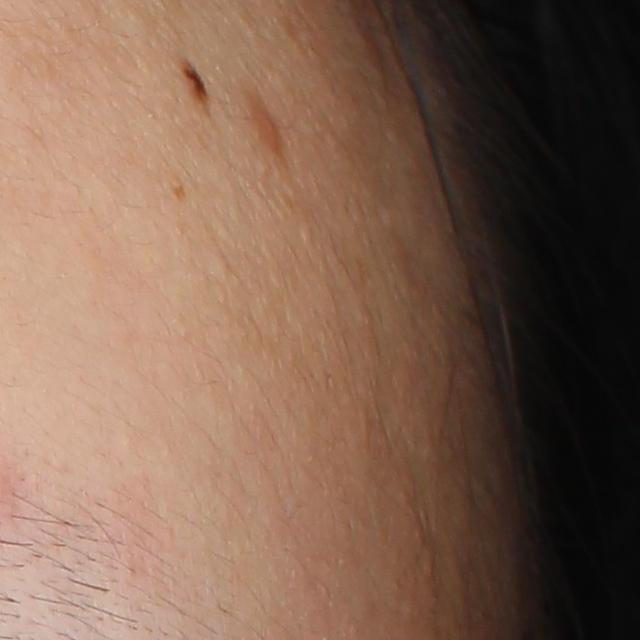nevus: (180, 54, 210, 113)
